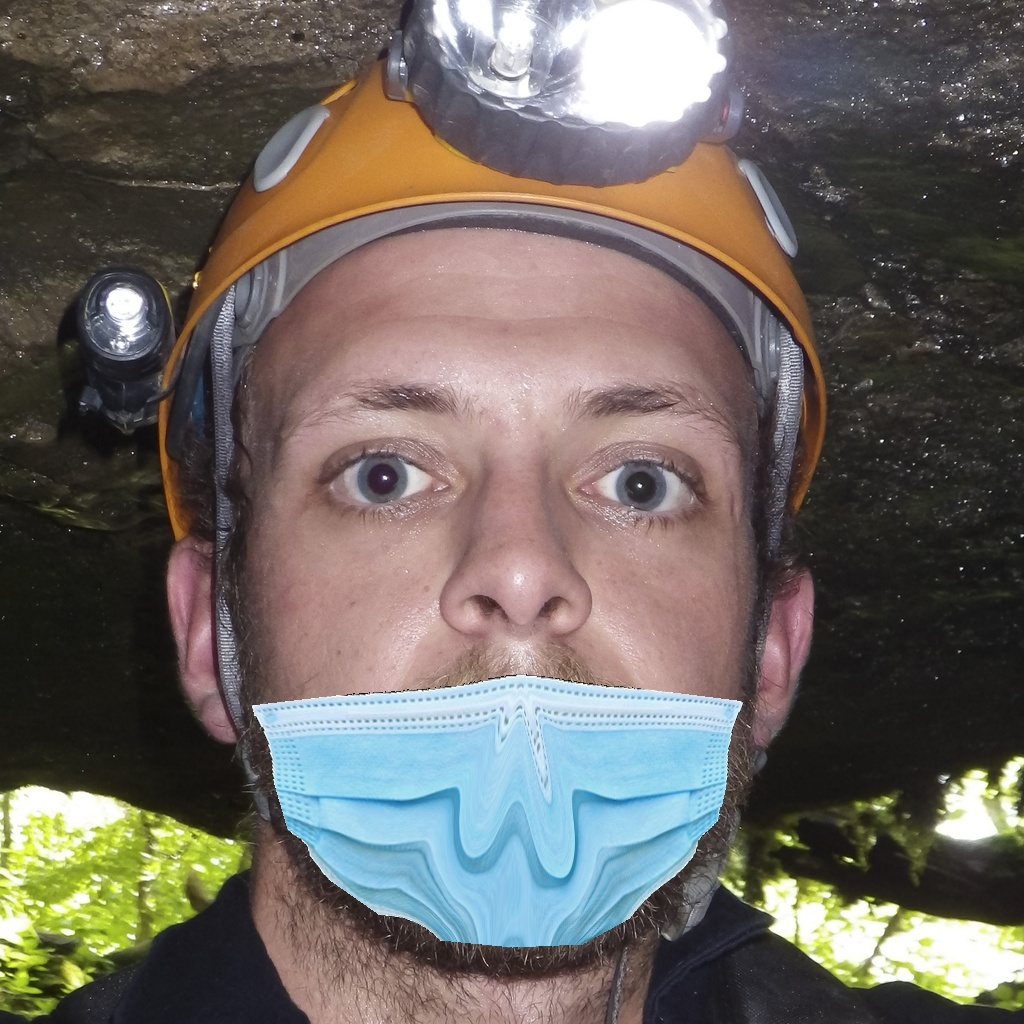mascarilla_mal_puesta: (267, 368, 737, 945)
